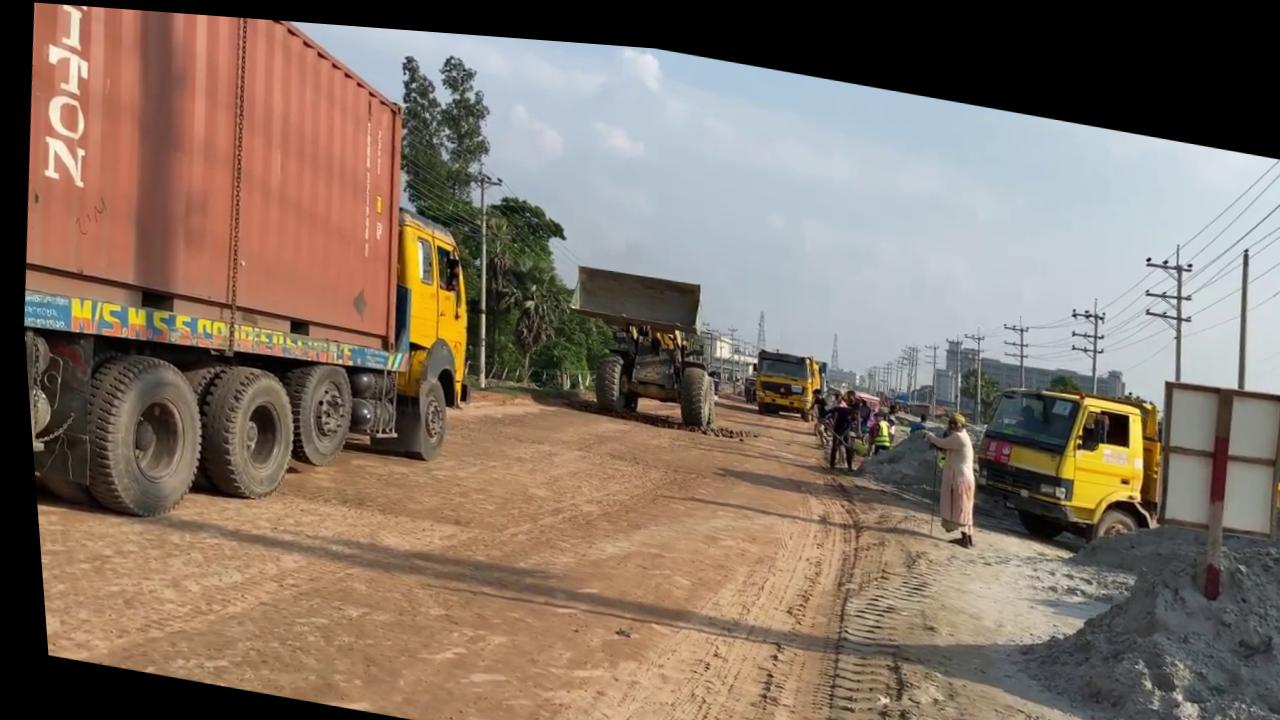Light-pole: (442, 159, 513, 385)
Pole: (1128, 218, 1199, 364), (1223, 226, 1256, 371)
Tree: (0, 0, 515, 571), (957, 351, 1168, 540), (550, 249, 725, 423), (742, 333, 827, 412)
